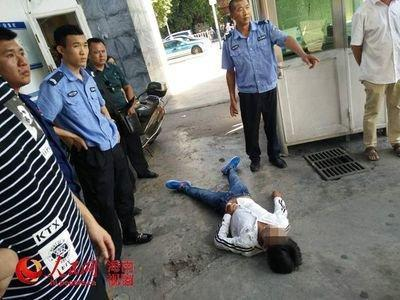Fall-Detected: (158, 148, 313, 276)
